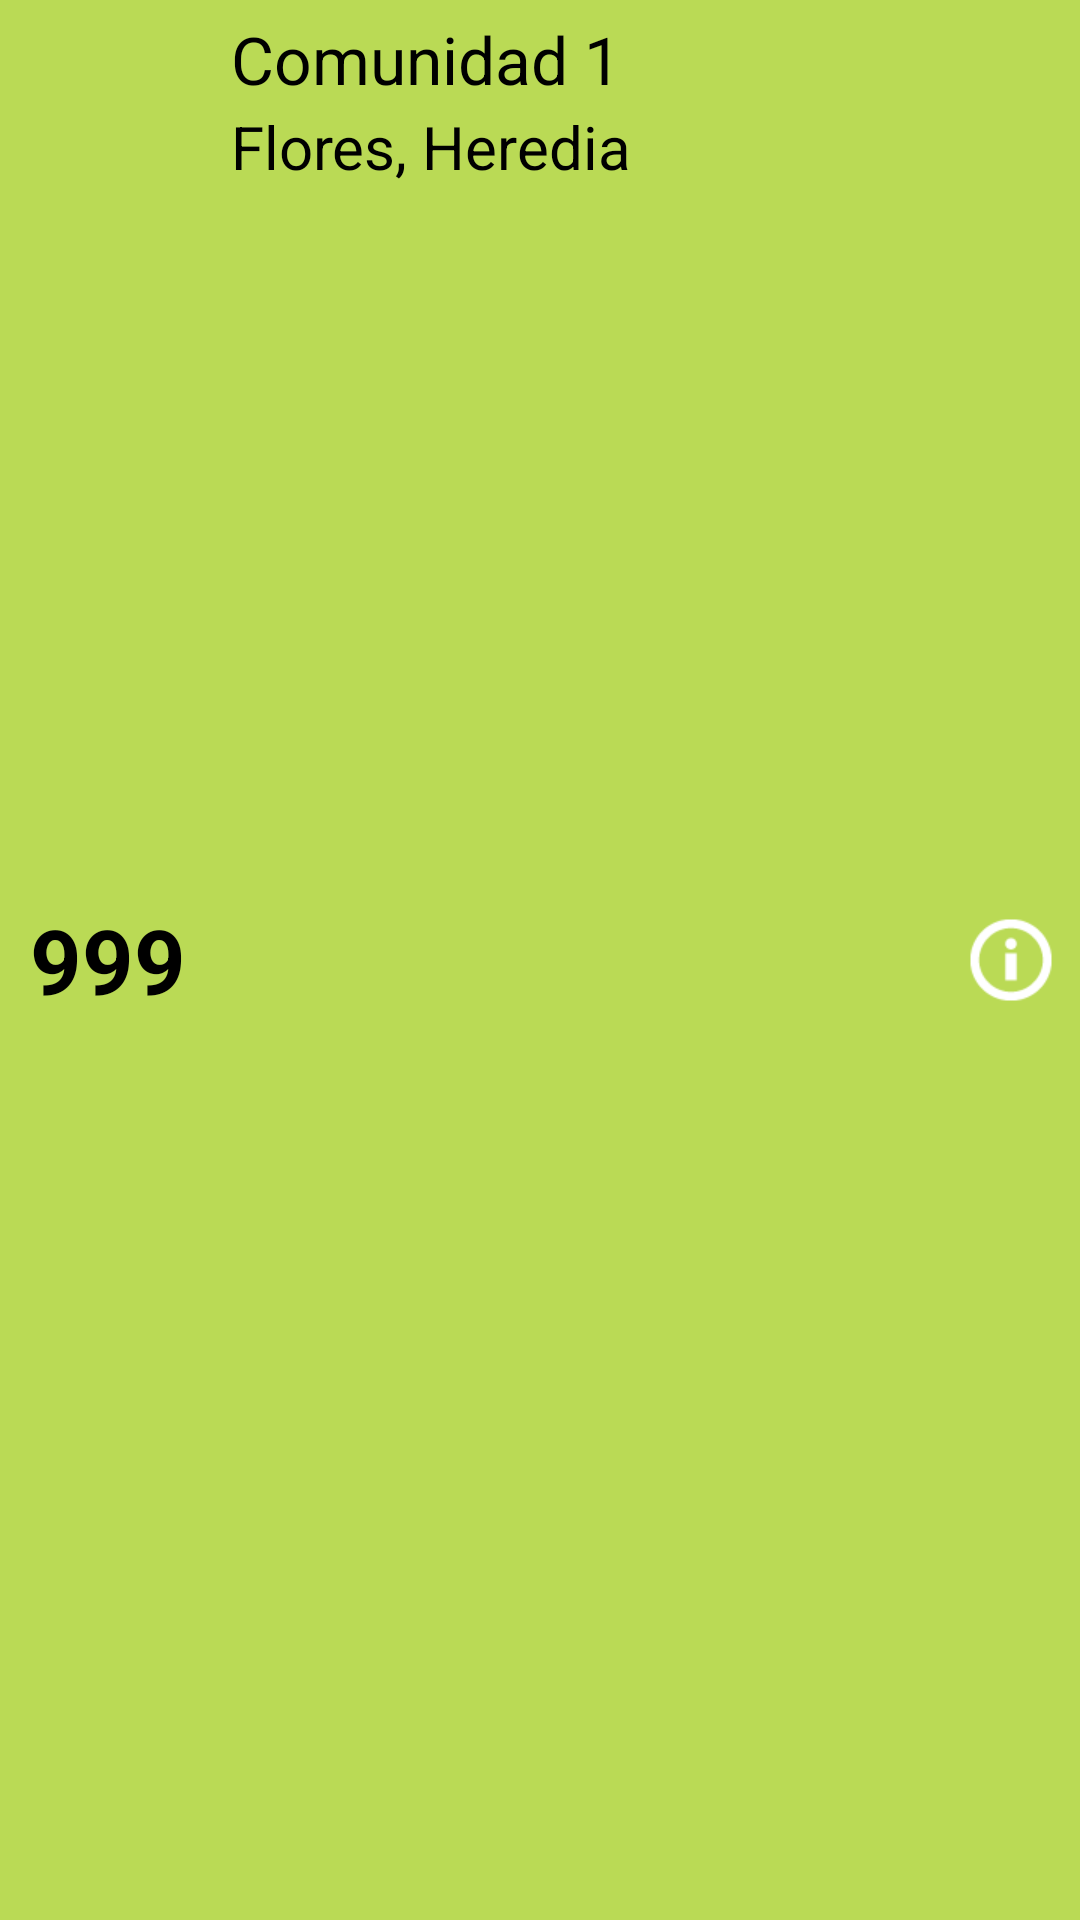

Where to tap for icons on this 1080*1920 app screen, as [x,y]:
info: [1011,960]
